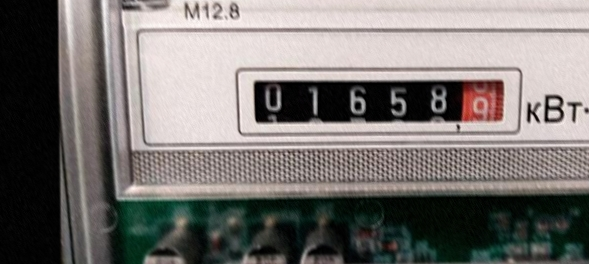0: (261, 82, 282, 112)
1: (304, 84, 322, 116)
5: (386, 85, 408, 116)
6: (346, 83, 367, 116)
8: (427, 82, 448, 114)
9: (468, 95, 489, 123)
screen: (225, 57, 526, 143)
